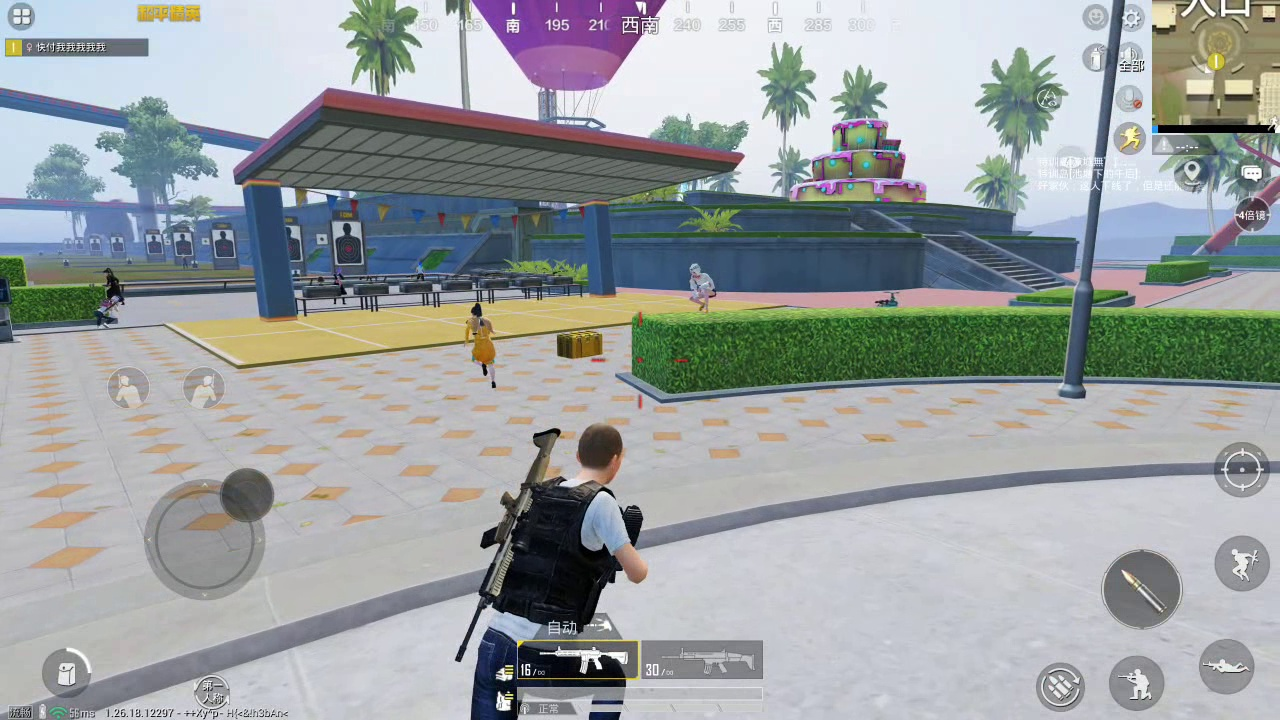enemy: (463, 302, 499, 388), (685, 260, 716, 311), (101, 267, 126, 306), (94, 295, 121, 328), (333, 266, 347, 304), (415, 261, 426, 280)
